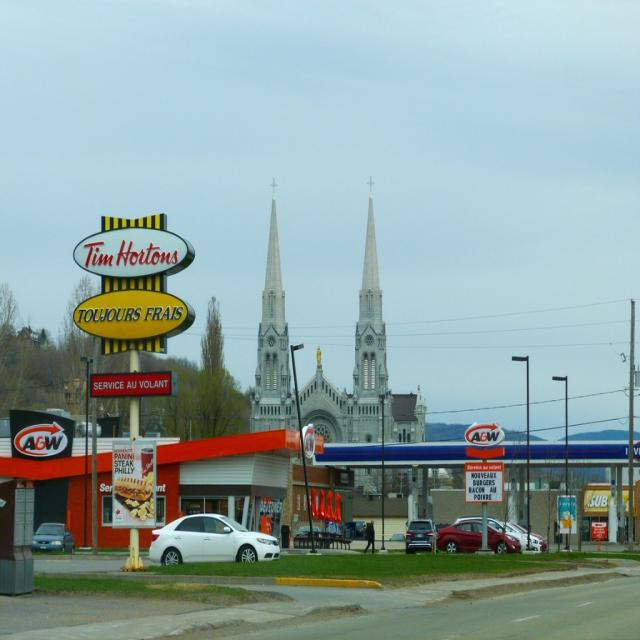car: (146, 511, 280, 565), (404, 518, 436, 550)
